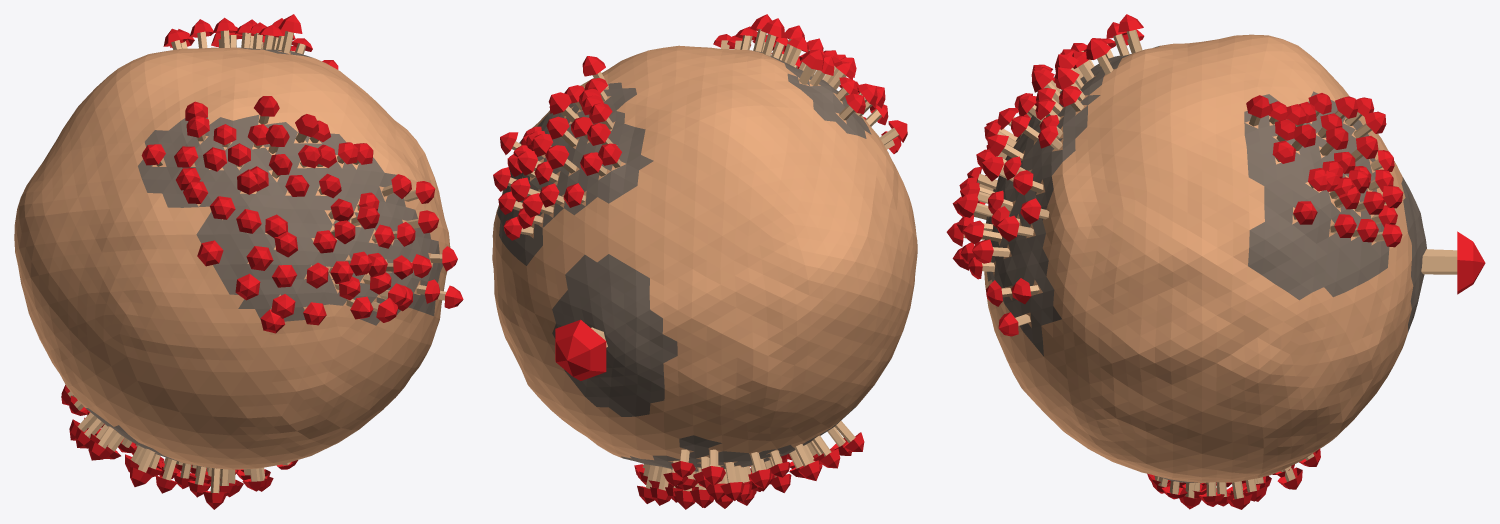
The model's file is Planet6.fbx.
3 renders of one model, left to right at view 1: azimuth 30°, elevation 25°; view 2: azimuth 150°, elevation 25°; view 3: azimuth 270°, elevation 25°, orthographic. The views are drawn at different scales.
Visible parts, largest first — view 1: Planet6; view 2: Planet6; view 3: Planet6.
Part boxes in pixels (left/top/right/bottom): Planet6: left=14, top=14, right=463, bottom=509; Planet6: left=492, top=14, right=917, bottom=509; Planet6: left=946, top=14, right=1485, bottom=509.
Bounding box in the file's own units: 207 × 228 × 247.
